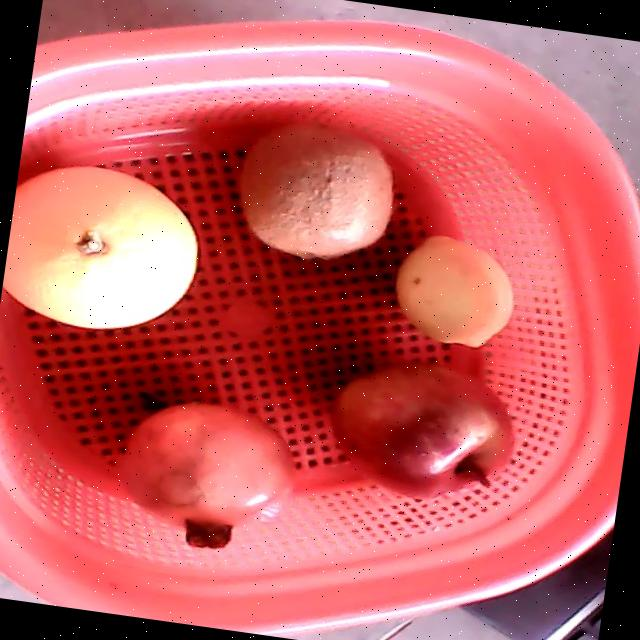apple: (332, 362, 513, 500)
kiwi: (240, 121, 393, 259)
lemon: (396, 236, 511, 347)
orange: (3, 167, 198, 329)
pomegranate: (121, 403, 296, 549)
